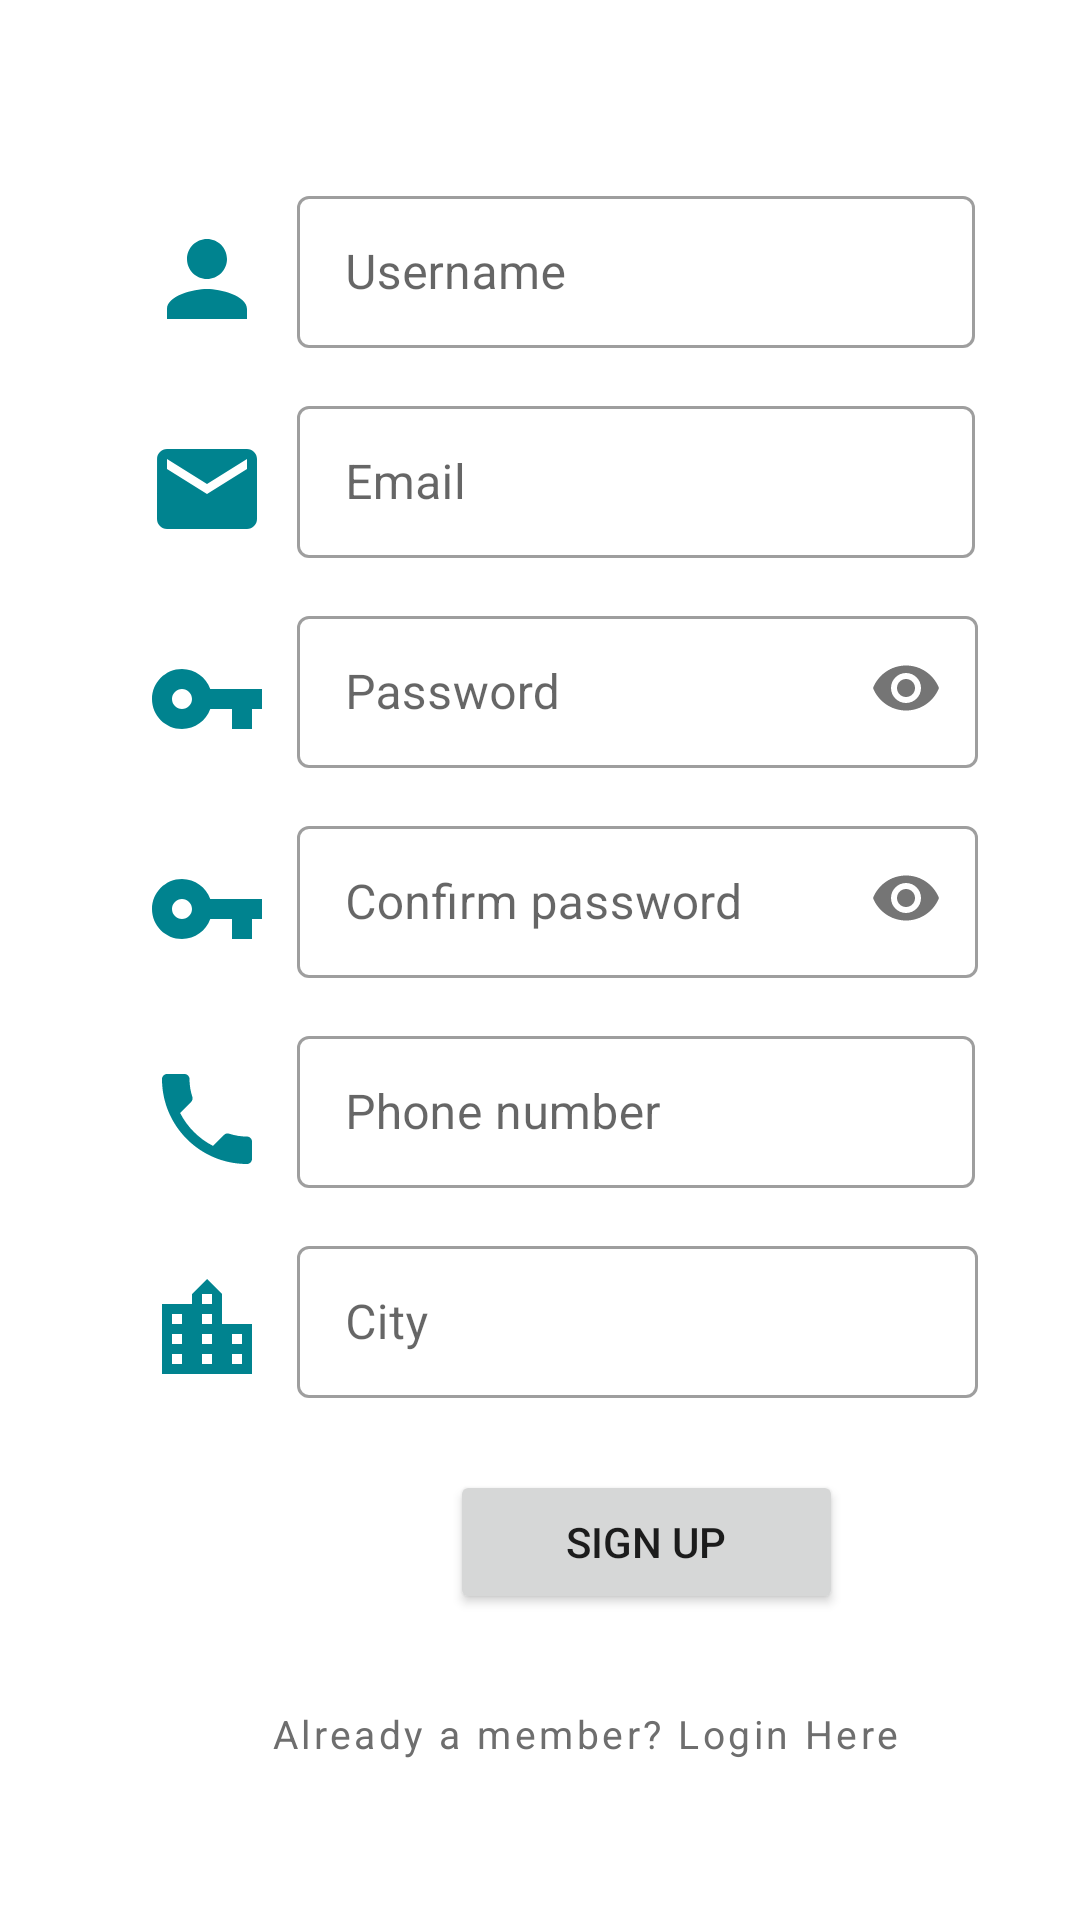

Screen size 1080×1920. Icon name, then its center in pixels as point (x, y):
local phone: point (207, 1119)
person: point (207, 279)
vpn key: point (207, 699), point (207, 909)
